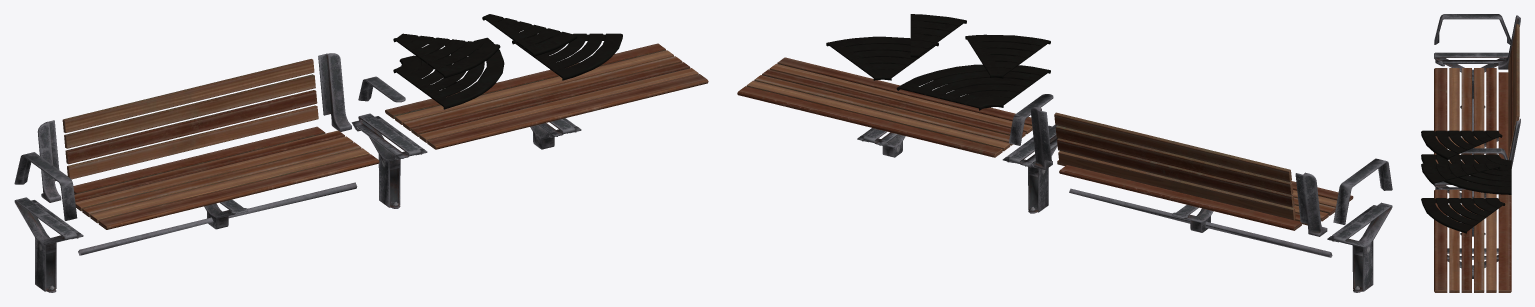
Rendered from modular_street_seating.glb.
3 renders of one model, left to right at view 1: azimuth 30°, elevation 25°; view 2: azimuth 150°, elevation 25°; view 3: azimuth 270°, elevation 25°, orthographic. The views are drawn at different scales.
Visible parts, largest first — view 1: seat_back, seat, seat_bench, connector_90, legs_double, connector_45, legs_single, connector_60, connector_30, back_support_l, crossbar, arm_rest_01 (+4 smaller); view 2: seat_bench, seat_back, connector_90, seat, connector_60, legs_single, connector_45, legs_double, crossbar, connector_30, arm_rest_01, back_support_r (+4 smaller); view 3: seat_bench, seat, connector_90, connector_60, connector_45, seat_back, connector_30, legs_single, arm_rest_01, arm_rest_02, back_support_r, legs_double (+3 smaller).
Part boxes in pixels (x1,y1,x2,y2): seat_back: (62,59,318,179); seat: (73,126,379,229); seat_bench: (385,43,708,149); connector_90: (393,37,504,109); legs_double: (351,113,427,208); connector_45: (393,33,500,78); legs_single: (14,197,83,292); connector_60: (512,33,622,80); connector_30: (482,14,577,56); back_support_l: (318,53,351,131); crossbar: (78,182,357,255); arm_rest_01: (14,152,77,220); seat_bench: (737,57,1032,157); seat_back: (1054,112,1295,220); connector_90: (896,64,1050,110); seat: (1057,160,1353,230); connector_60: (826,36,938,80); legs_single: (1327,202,1392,292); connector_45: (965,34,1050,78); legs_double: (1002,125,1058,213); crossbar: (1069,188,1332,257); connector_30: (910,14,966,57); arm_rest_01: (1333,158,1392,224); back_support_r: (1295,172,1327,236); seat_bench: (1434,189,1511,292); seat: (1434,68,1508,163); connector_90: (1421,154,1511,194); connector_60: (1421,198,1505,233); connector_45: (1421,130,1502,160); seat_back: (1508,24,1519,157); connector_30: (1421,163,1500,184); legs_single: (1434,52,1508,108); arm_rest_01: (1434,14,1511,44); arm_rest_02: (1460,148,1508,159); back_support_r: (1498,15,1520,69); legs_double: (1434,181,1486,236).
Bounding box in the file's own units: 4.34 × 0.95 × 0.7704.
Materials: 4 (4 with a texture image).
